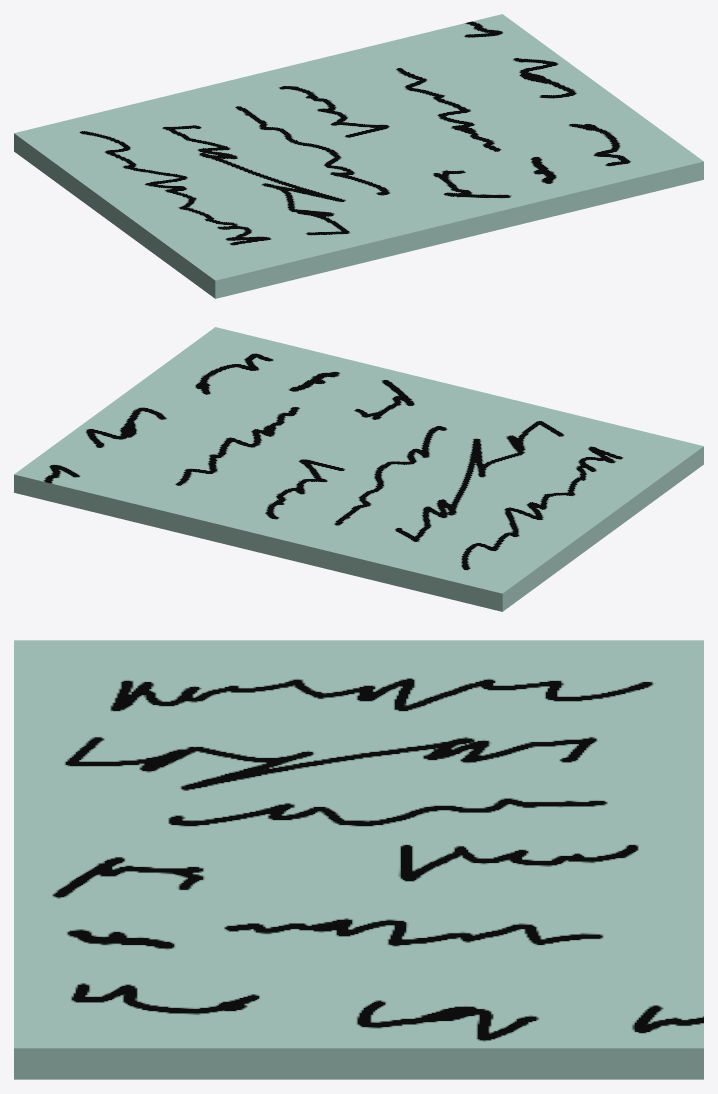
Rendered from Security-paper.glb.
3 views of the same model, one above another, from view 1: azimuth 30°, elevation 25°; view 2: azimuth 150°, elevation 25°; view 3: azimuth 270°, elevation 25° (orthographic). The views are drawn at different scales.
Parts seen in each view (by area): view 1: Cube; view 2: Cube; view 3: Cube.
Boxes of the visible parts, x1,y1,x2,y2 form: Cube: (14, 14, 703, 298); Cube: (14, 327, 703, 611); Cube: (14, 640, 703, 1079).
Bounding box in the file's own units: 2.8 × 0.1 × 2.
1 material, 1 textured.
